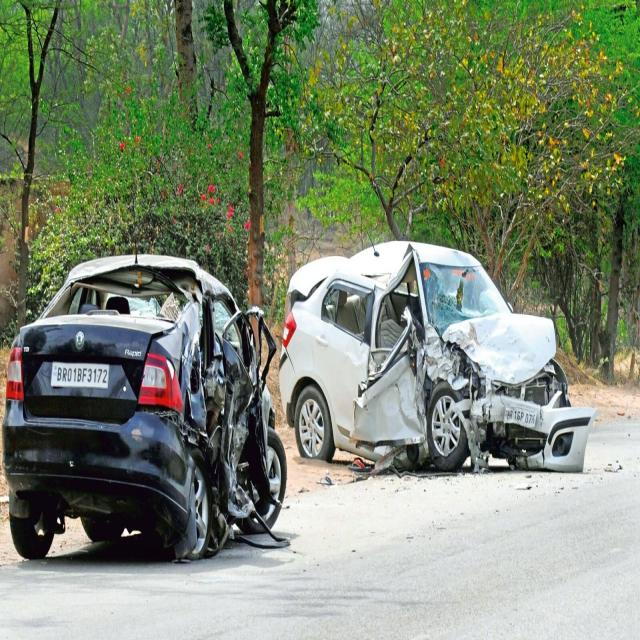accident: (2, 253, 286, 560), (280, 240, 592, 471)
